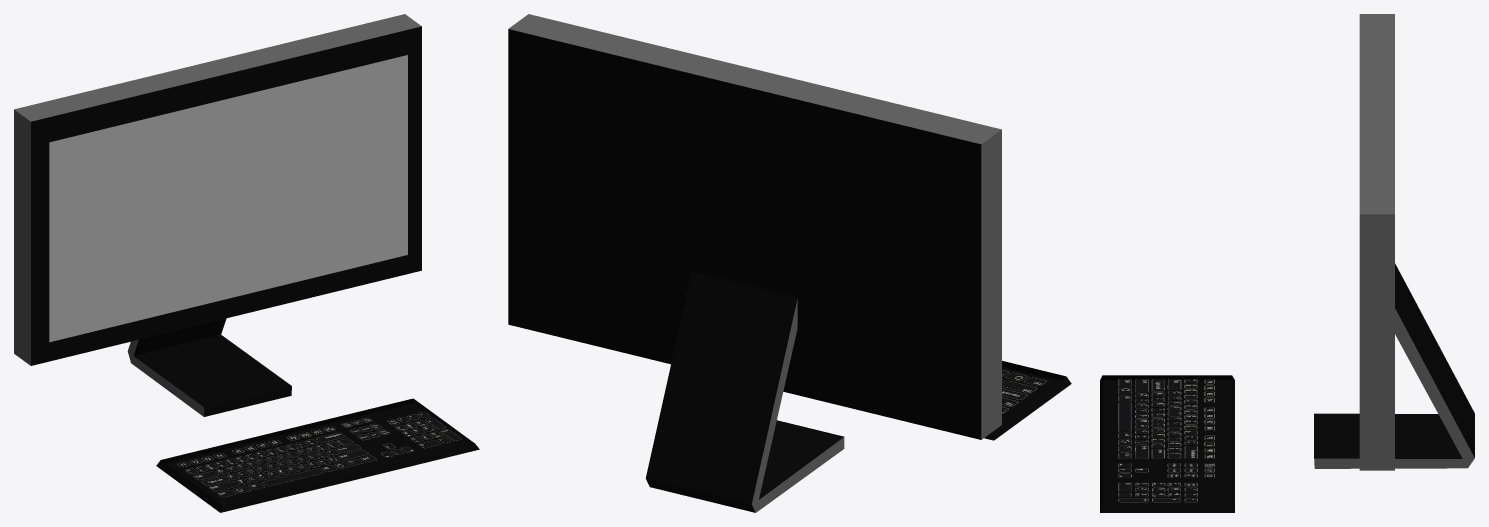
The model's file is Laptop.fbx.
3 views of the same model, side by side, from view 1: azimuth 30°, elevation 25°; view 2: azimuth 150°, elevation 25°; view 3: azimuth 270°, elevation 25° (orthographic). The views are drawn at different scales.
Visible parts, largest first — view 1: pCube1, pCube2; view 2: pCube1, pCube2; view 3: pCube1, pCube2.
Part boxes in pixels (x1=…): pCube1: x1=14, y1=14, x2=421, y2=416; pCube2: x1=156, y1=398, x2=479, y2=512; pCube1: x1=508, y1=14, x2=1001, y2=512; pCube2: x1=984, y1=361, x2=1071, y2=440; pCube1: x1=1314, y1=14, x2=1474, y2=470; pCube2: x1=1100, y1=375, x2=1234, y2=512.
Bounding box in the file's own units: 2.9 × 2.25 × 2.3.
